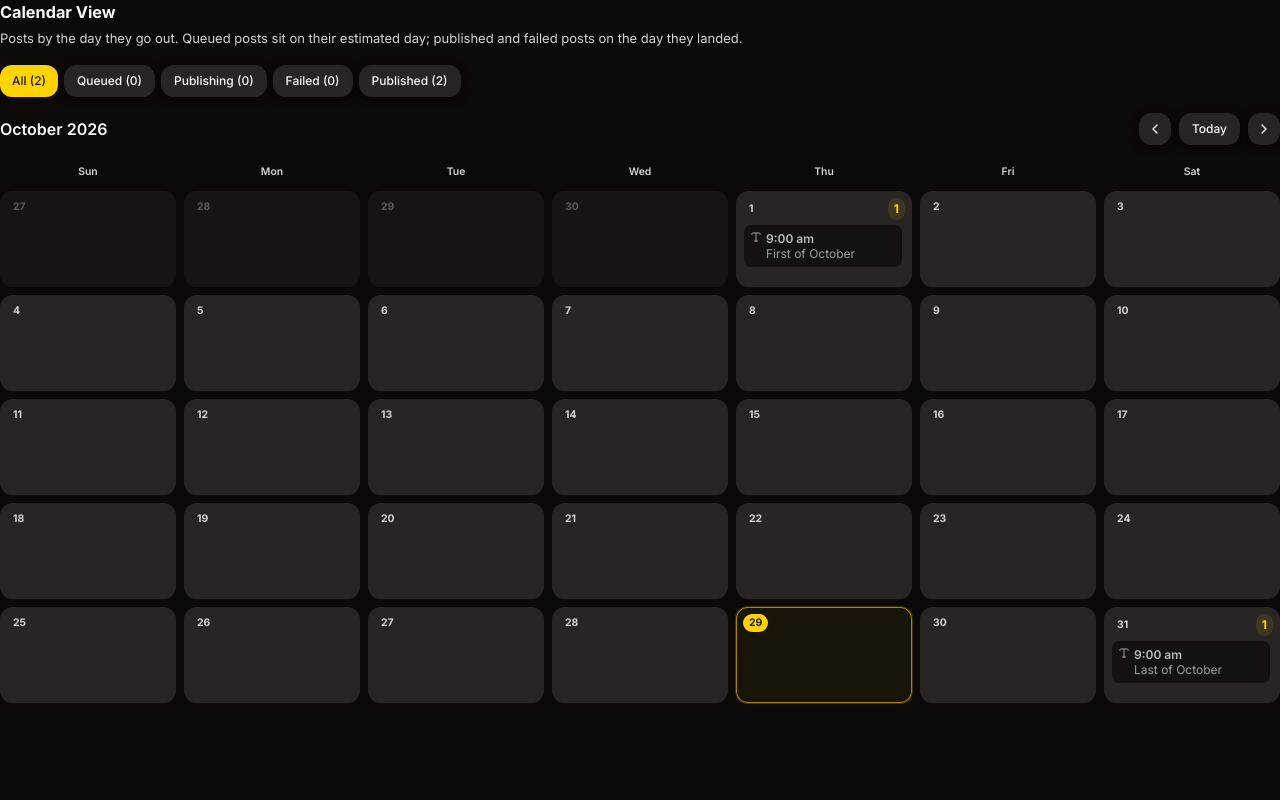
Test: CalendarViewPanel › month-boundary posts stay in their month across year-rollover navigation
This screenshot has width=1280, height=800.
Click the button with test id "calendar-next-btn": [1264, 129] box [1248,113,1279,145]
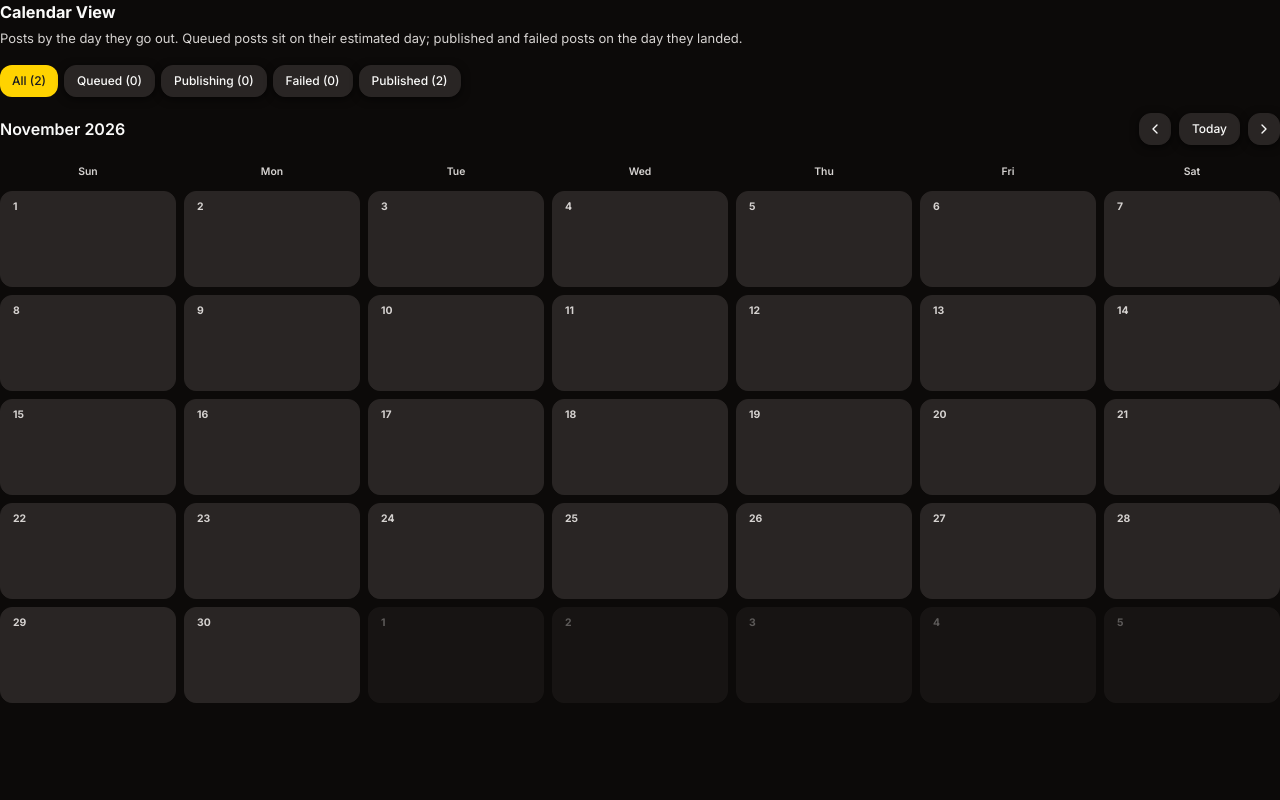
Now the heading with test id "calendar-month-label" reads "November 2026", box [0,119,125,139]
Click the button with test id "calendar-next-btn": [1264, 129] box [1248,113,1279,145]
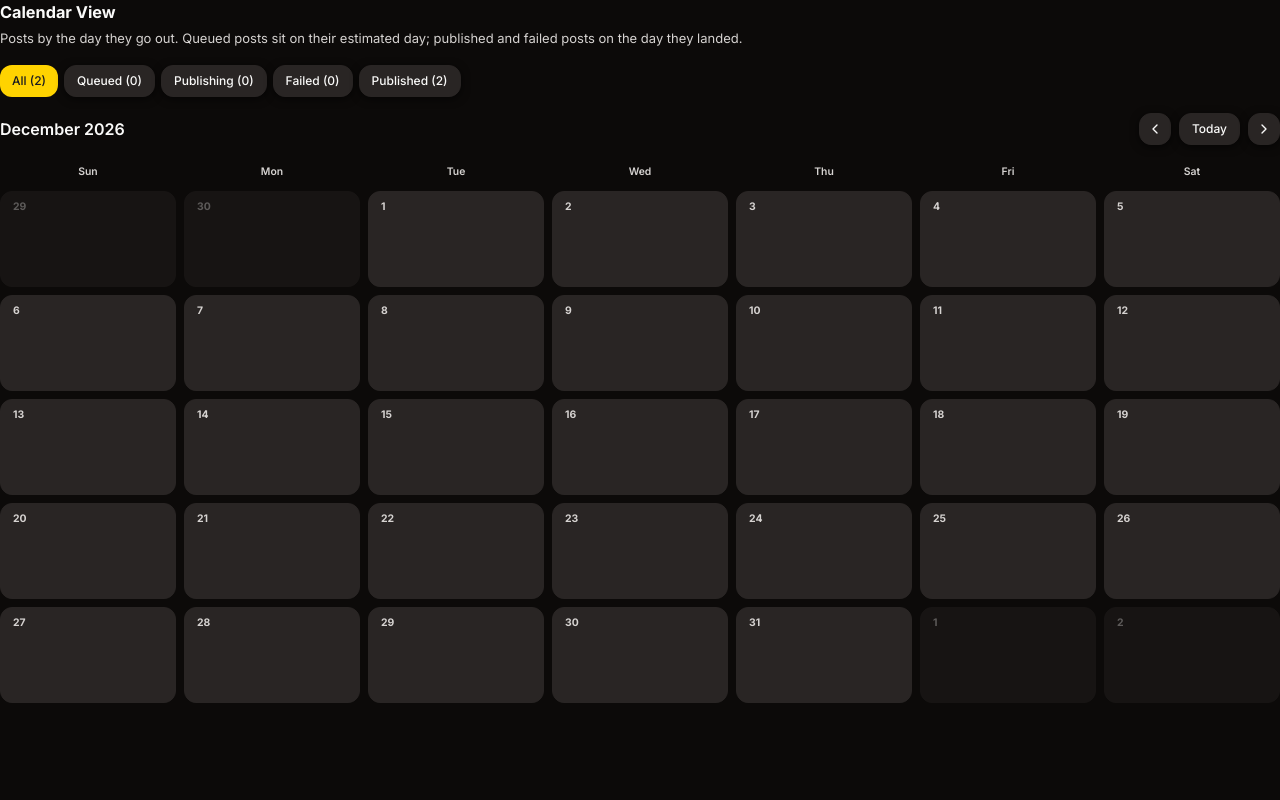
Now the heading with test id "calendar-month-label" reads "December 2026", box [0,119,125,139]
Click the button with test id "calendar-next-btn": [1264, 129] box [1248,113,1279,145]
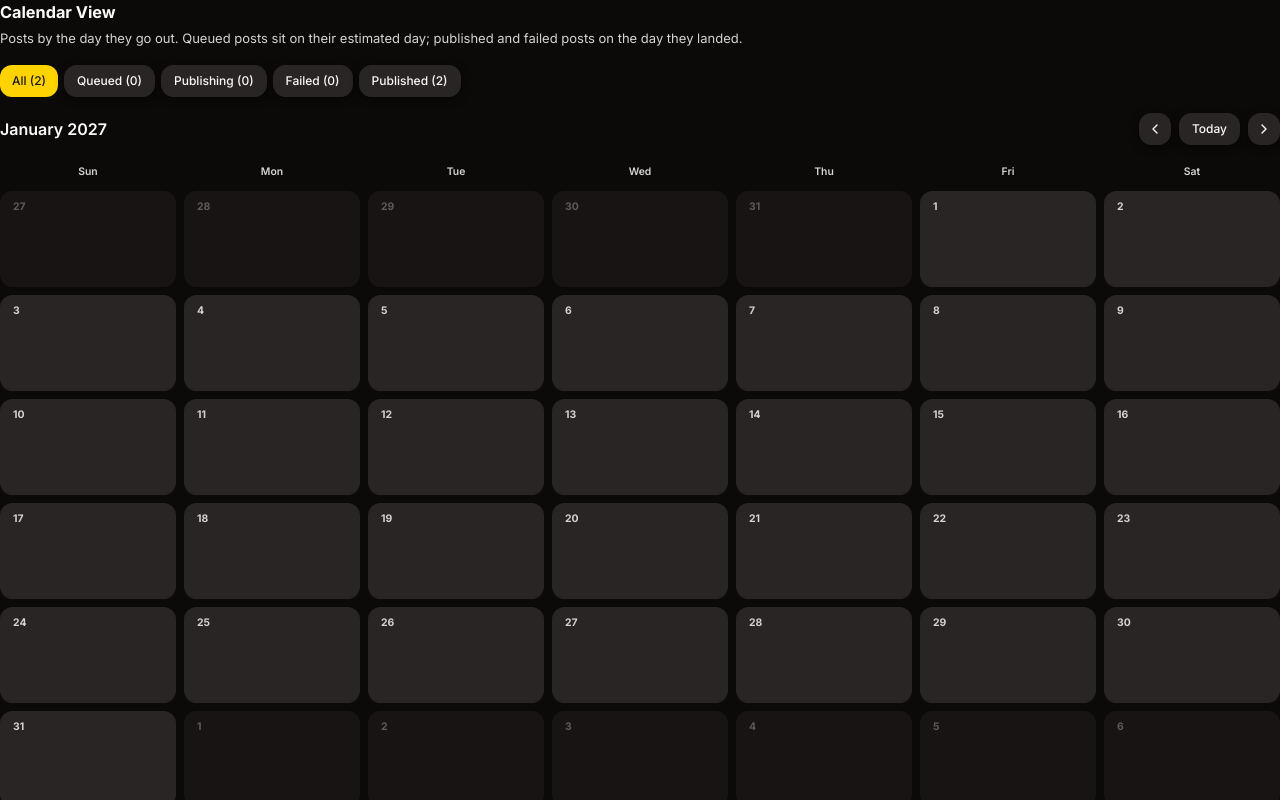
Now the heading with test id "calendar-month-label" reads "January 2027", box [0,119,107,139]
Click the button with test id "calendar-prev-btn": [1155, 129] box [1139,113,1171,145]
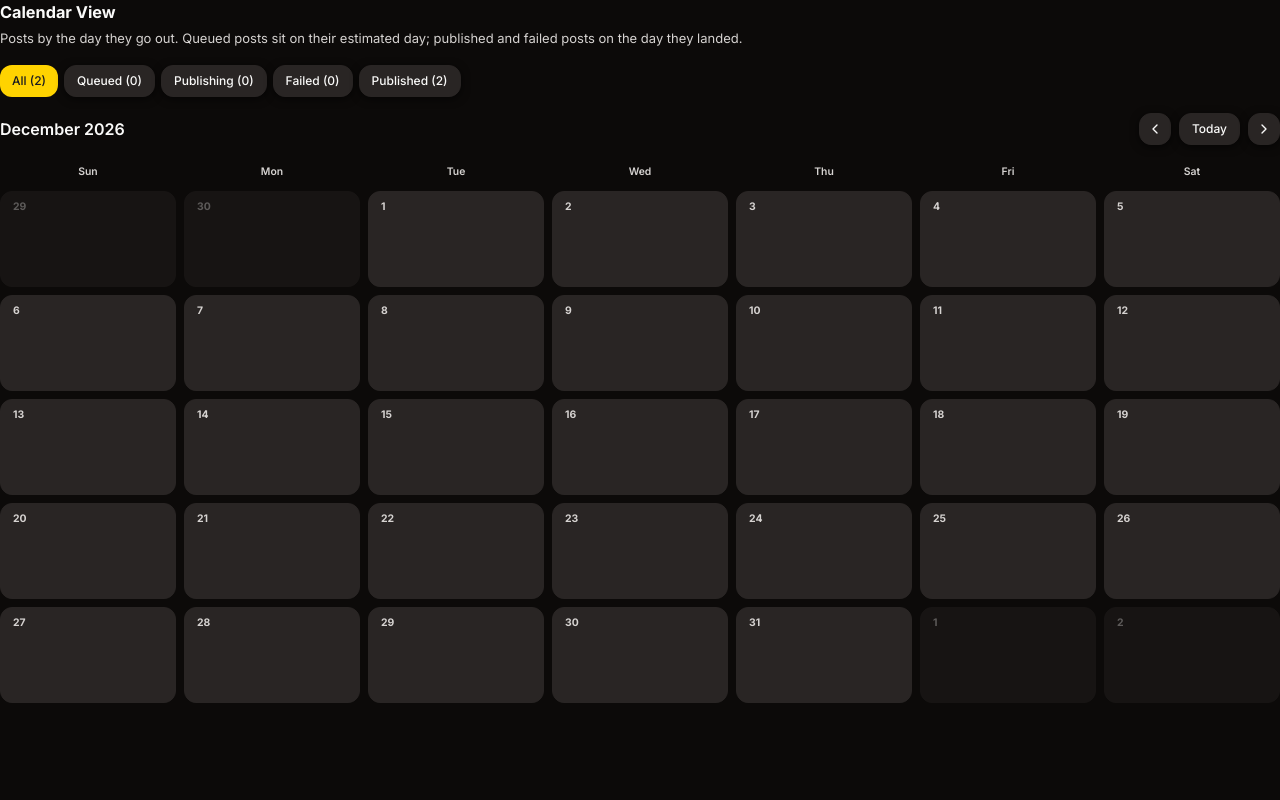
Now the heading with test id "calendar-month-label" reads "December 2026", box [0,119,125,139]
